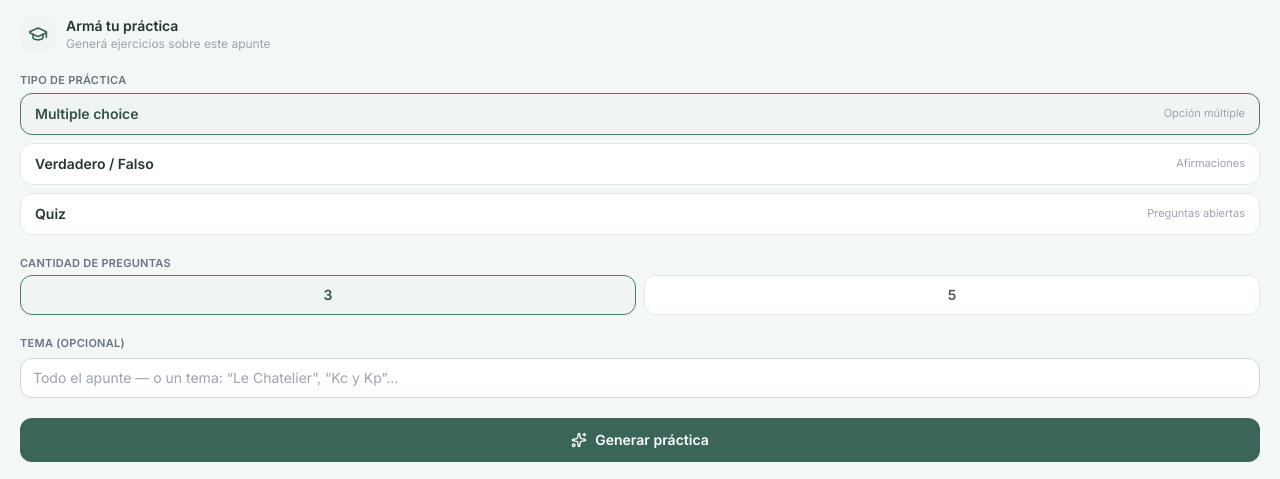
Test: StudyPanel › modo Quiz muestra preguntas abiertas en texto, sin tarjetas interactivas
Click the button "Quiz Preguntas abiertas": (50, 213) [20,192,1260,234]
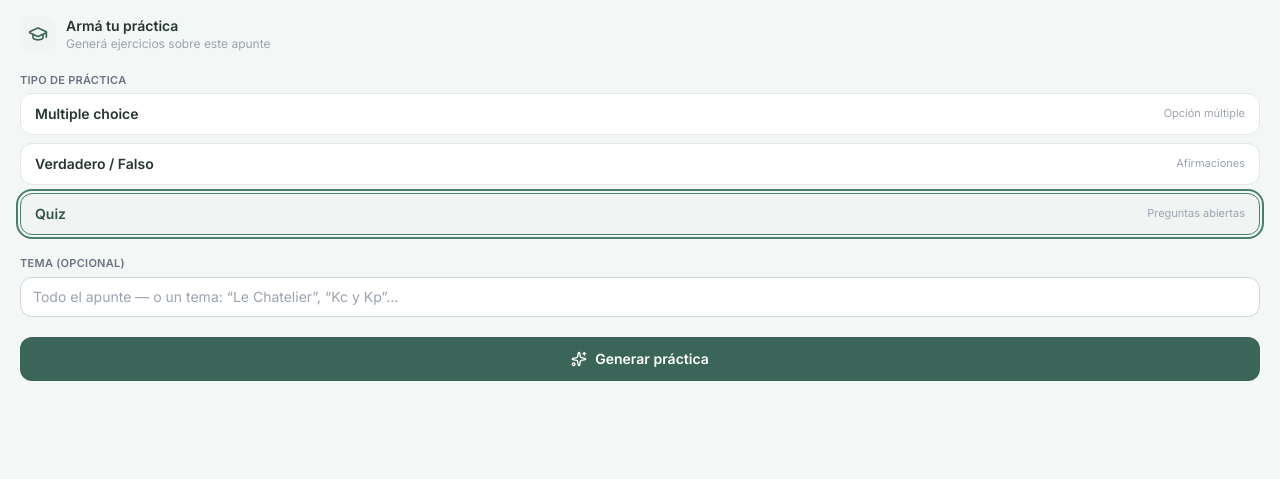
Click the button "Generar práctica": (640, 359) [20,337,1260,381]
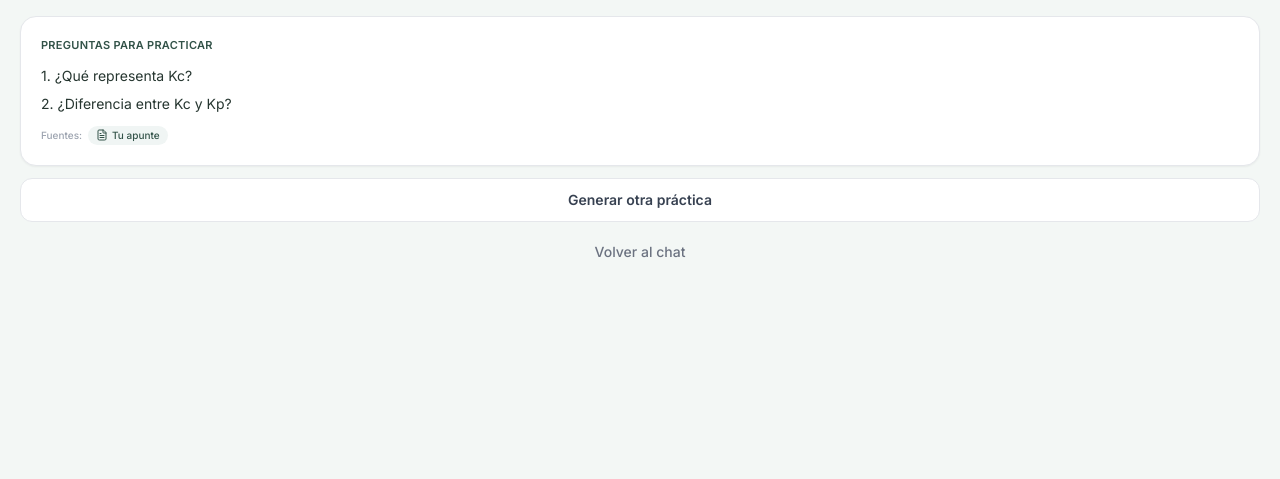
Check: the text "Preguntas para practicar" is shown, box [41,38,213,52]
Check: the text "1. ¿Qué representa Kc? 2. ¿Diferencia entre Kc y Kp?" is shown, box [41,66,232,112]
